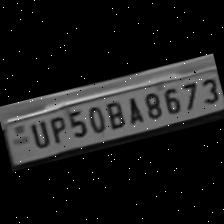0: (82, 100, 106, 134)
3: (194, 72, 221, 107)
5: (61, 104, 88, 140)
6: (158, 82, 182, 114)
7: (176, 78, 200, 110)
8: (136, 87, 163, 120)
A: (120, 92, 144, 126)
B: (98, 95, 126, 131)
P: (41, 110, 68, 146)
U: (23, 116, 50, 150)
